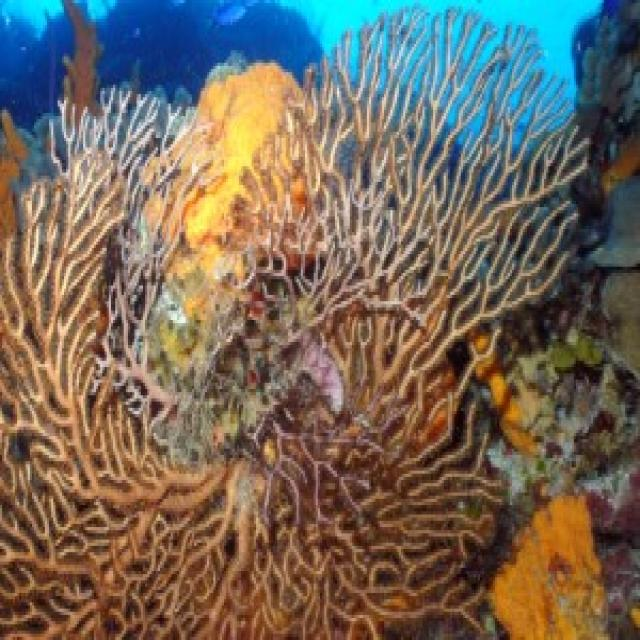Healthy: (1, 10, 586, 638)
